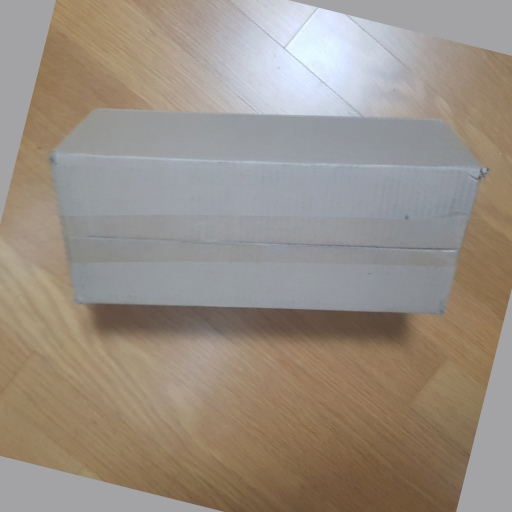Paper_0: (49, 105, 486, 321)
